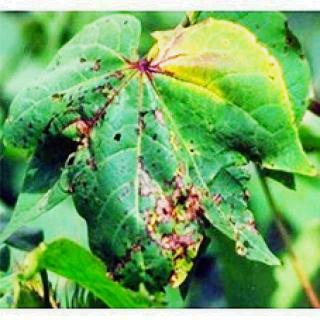blight: (14, 25, 290, 292)
